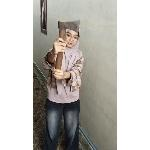Kapak: (53, 19, 86, 75)
